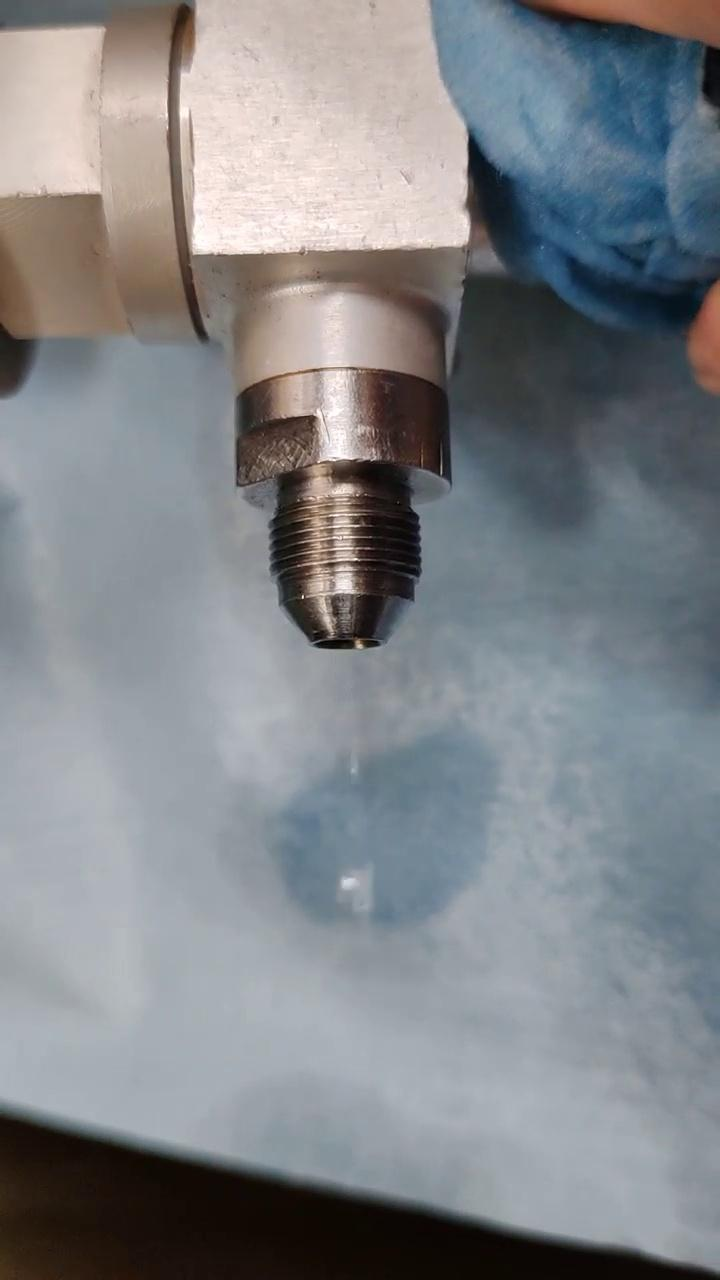water drop: (332, 863, 382, 952), (350, 728, 362, 786)
